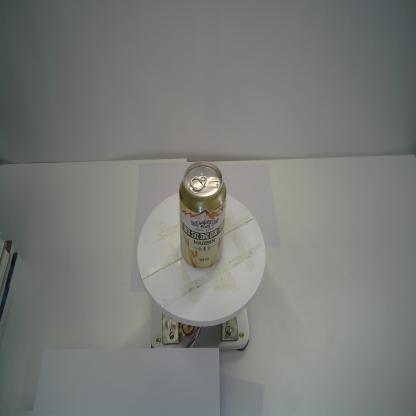Alcohol: (178, 160, 228, 272)
